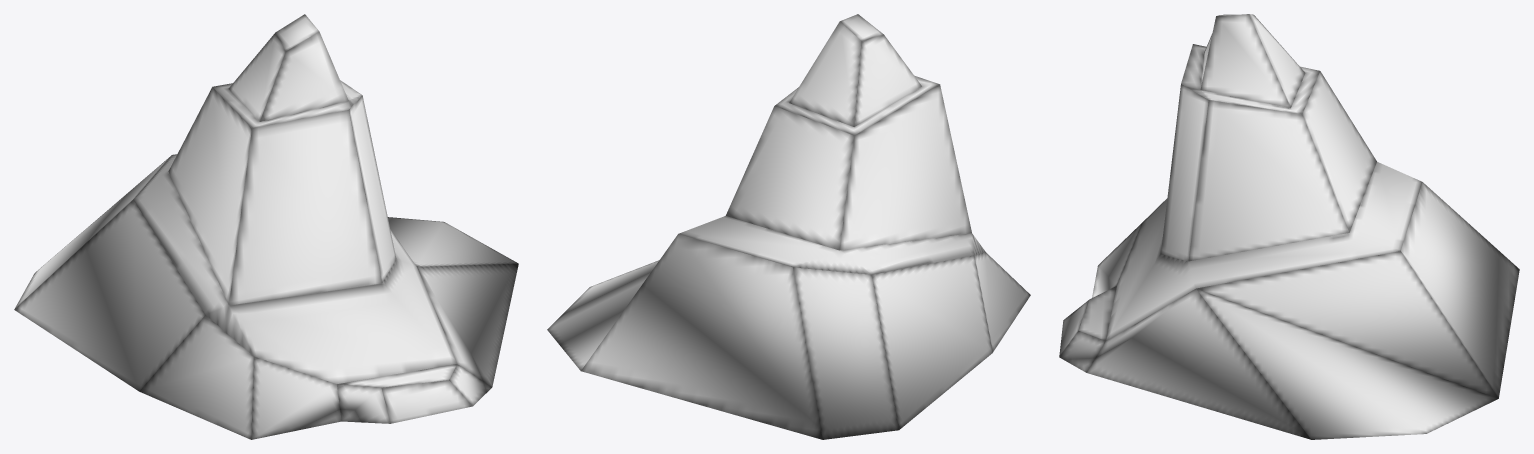
Rendered from Rock-02.fbx.
3 renders of one model, left to right at view 1: azimuth 30°, elevation 25°; view 2: azimuth 150°, elevation 25°; view 3: azimuth 270°, elevation 25°, orthographic. The views are drawn at different scales.
Visible parts, largest first — view 1: Rock-02; view 2: Rock-02; view 3: Rock-02.
Boxes of the visible parts, x1,y1,x2,y2 form: Rock-02: (14, 14, 518, 439); Rock-02: (547, 14, 1030, 439); Rock-02: (1059, 14, 1519, 439).
Bounding box in the file's own units: 2 × 1.5 × 2.
